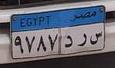7: (47, 32, 60, 53), (24, 35, 36, 53)
8: (36, 34, 47, 53)
9: (14, 35, 24, 54)
daal: (64, 34, 74, 49)
raa: (77, 33, 88, 49)
seen: (89, 30, 103, 47)
